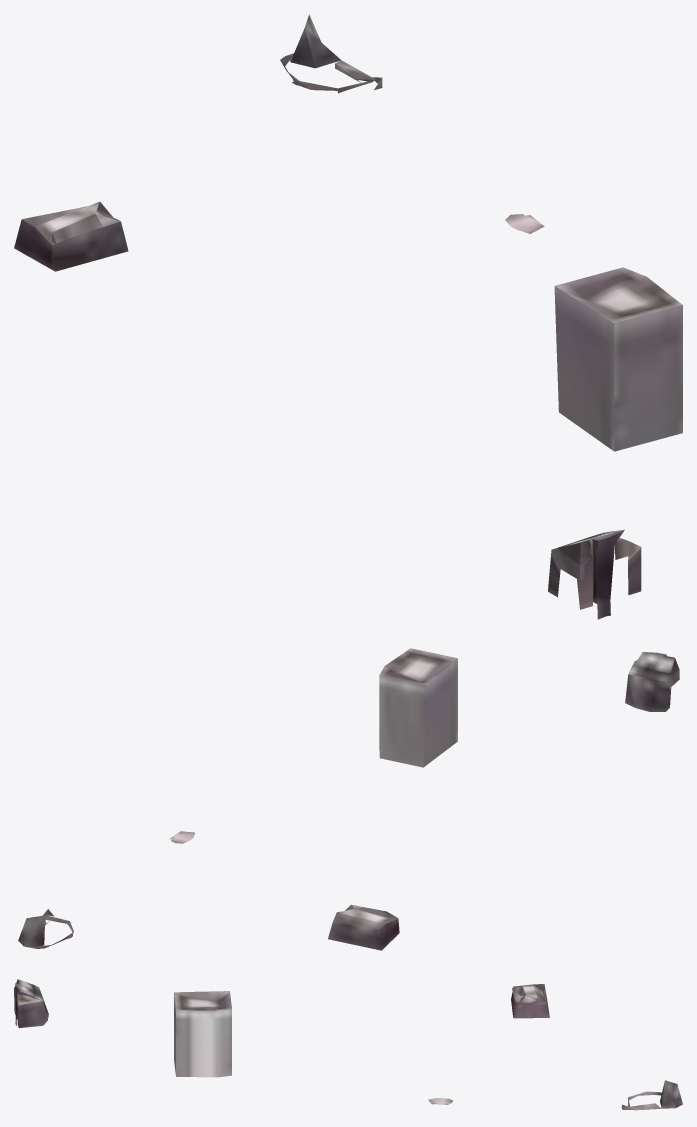
3 renders of one model, top to bottom at view 1: azimuth 30°, elevation 25°; view 2: azimuth 150°, elevation 25°; view 3: azimuth 270°, elevation 25°, orthographic. The views are drawn at different scales.
Visible parts, largest first — view 1: Mesh_0; view 2: Mesh_0; view 3: Mesh_0.
Part boxes in pixels (left/top/right/bottom): Mesh_0: left=14, top=14, right=682, bottom=619; Mesh_0: left=18, top=648, right=679, bottom=950; Mesh_0: left=14, top=979, right=682, bottom=1110.
Bounding box in the file's own units: 239 × 72.13 × 587.
Materials: 1 (1 with a texture image).
